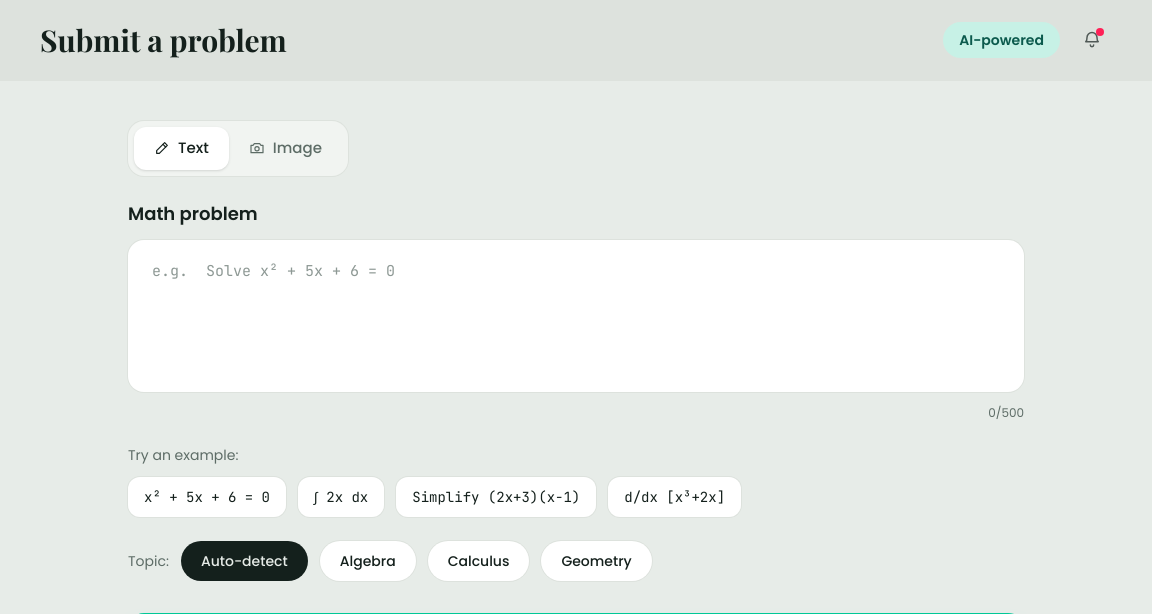
Dashboard Page › switches to image input when image tab is clicked
Click the button "Image" at (285, 148), box [229,127,342,170]
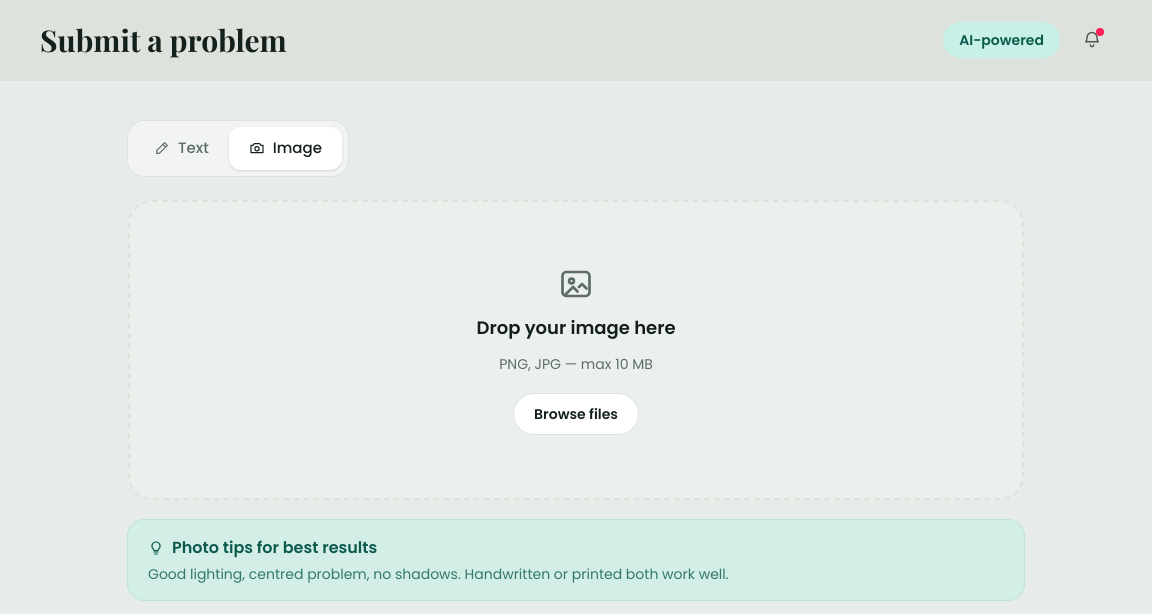
Check: the text "Drop your image here" is shown, box [476,314,676,342]
